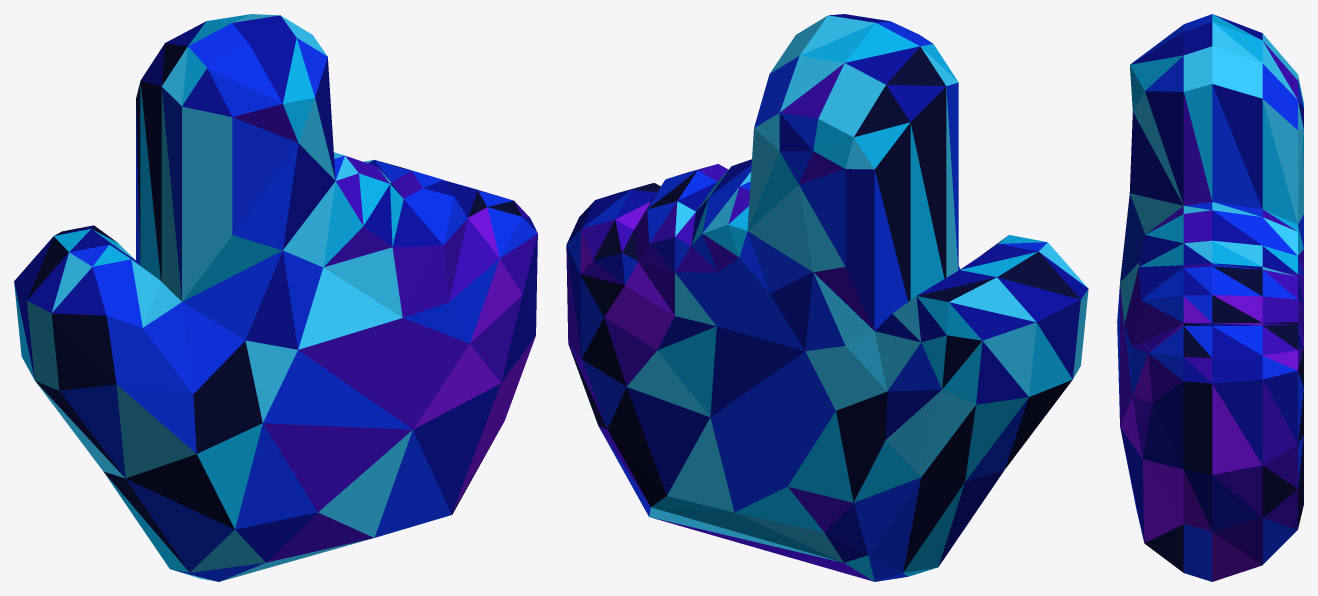
File: prism-glow-hand.obj
The picture shows the model from 3 angles, left to right: view 1: azimuth 30°, elevation 25°; view 2: azimuth 150°, elevation 25°; view 3: azimuth 270°, elevation 25°; orthographic projection. The views are drawn at different scales.
Parts seen in each view (by area): view 1: Prism_Glow_-_Hand_(cursor_scale); view 2: Prism_Glow_-_Hand_(cursor_scale); view 3: Prism_Glow_-_Hand_(cursor_scale).
Part boxes in pixels (x1=…): Prism_Glow_-_Hand_(cursor_scale): x1=14, y1=14, x2=537, y2=581; Prism_Glow_-_Hand_(cursor_scale): x1=566, y1=14, x2=1088, y2=581; Prism_Glow_-_Hand_(cursor_scale): x1=1117, y1=14, x2=1303, y2=581.
Bounding box in the file's own units: 1.94 × 2.02 × 0.7117.
